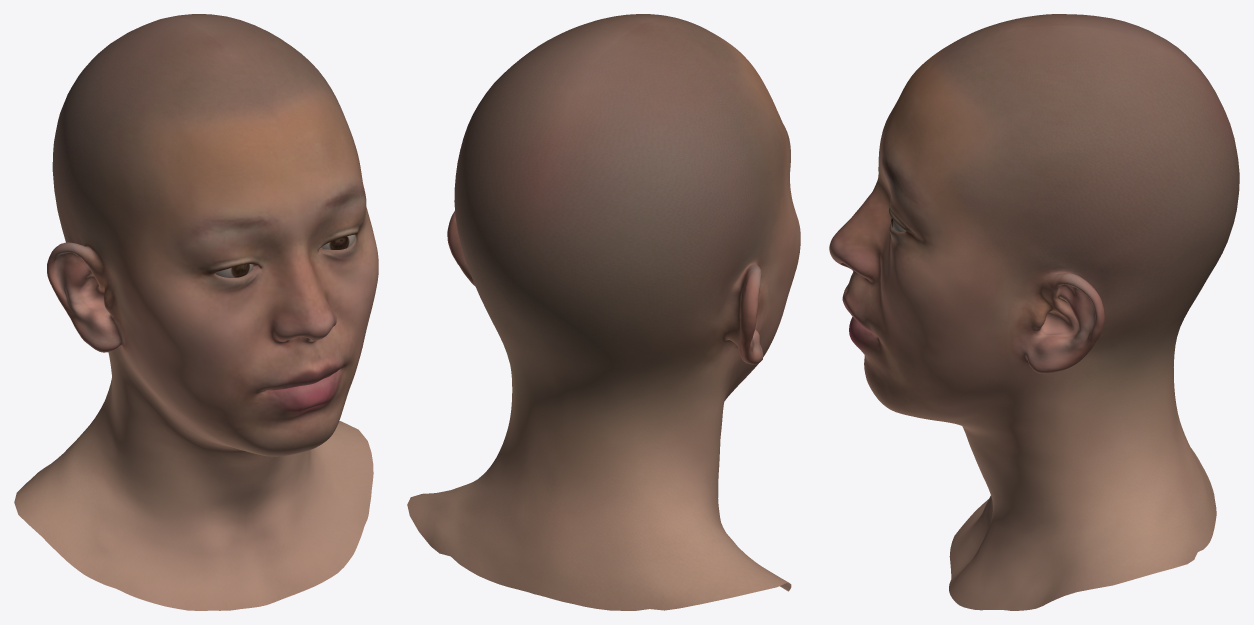
3 renders of one model, left to right at view 1: azimuth 30°, elevation 25°; view 2: azimuth 150°, elevation 25°; view 3: azimuth 270°, elevation 25°, orthographic. The views are drawn at different scales.
Parts seen in each view (by area): view 1: Registered head; view 2: Registered head; view 3: Registered head.
Part boxes in pixels (left/top/right/bottom): Registered head: left=14, top=14, right=378, bottom=610; Registered head: left=407, top=14, right=800, bottom=610; Registered head: left=829, top=14, right=1239, bottom=610.
Size of the model in its own units: 1.26 by 1.89 by 1.28.
3 materials, 3 textured.
